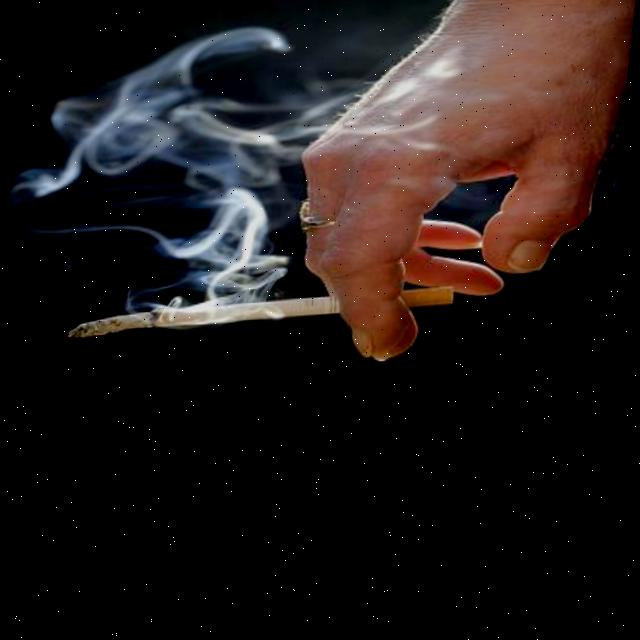cigarette: (69, 292, 463, 343)
